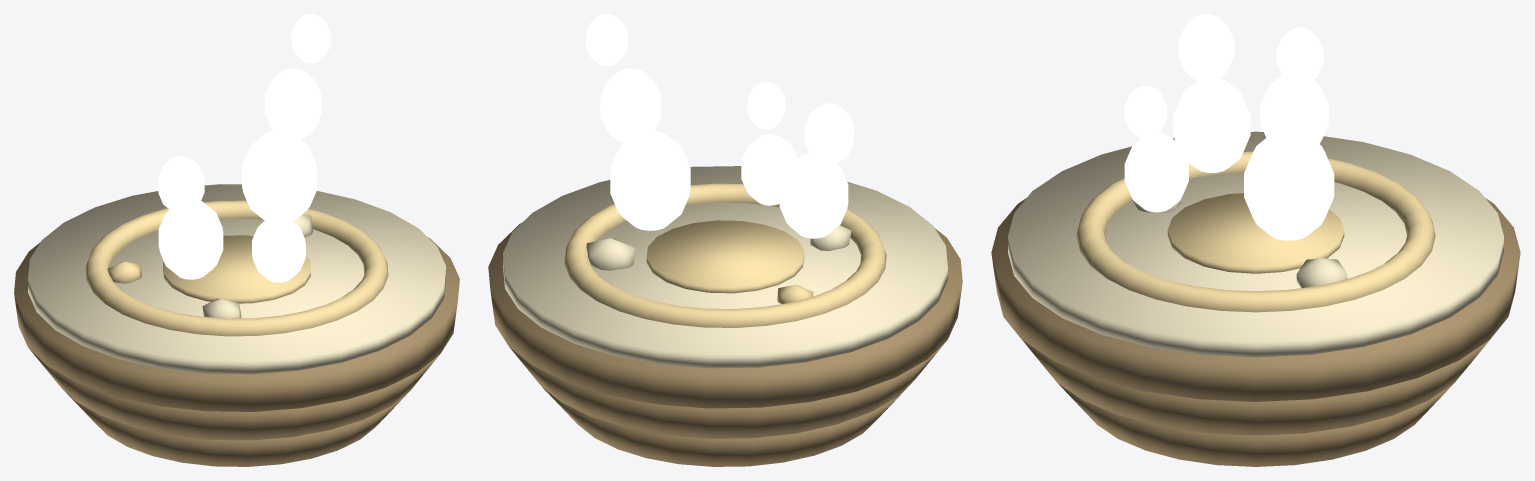
The model's file is food_cutaway.glb.
3 views of the same model, side by side, from view 1: azimuth 30°, elevation 25°; view 2: azimuth 150°, elevation 25°; view 3: azimuth 270°, elevation 25° (orthographic). The views are drawn at different scales.
Parts seen in each view (by area): view 1: CutFace, SkinTop, FleshRing, SkinMid, SkinBase, FleshCore, Steam0, Steam3, Steam1, Steam5, Steam4, Steam2 (+3 smaller); view 2: CutFace, SkinTop, FleshRing, SkinMid, FleshCore, SkinBase, Steam0, Steam3, Steam1, Steam5, Steam4, Steam2 (+4 smaller); view 3: CutFace, SkinTop, FleshRing, SkinMid, SkinBase, FleshCore, Steam0, Steam3, Steam1, Steam5, Steam4, Steam2 (+2 smaller).
Part boxes in pixels (box(x1,y1,x2,y2)): CutFace: box(28, 184, 445, 374); SkinTop: box(14, 237, 459, 411); FleshRing: box(85, 200, 388, 336); SkinMid: box(29, 348, 439, 440); SkinBase: box(62, 388, 409, 466); FleshCore: box(163, 235, 310, 303); Steam0: box(241, 131, 317, 221); Steam3: box(158, 201, 223, 279); Steam1: box(264, 68, 321, 139); Steam5: box(252, 215, 305, 282); Steam4: box(158, 155, 204, 213); Steam2: box(291, 14, 330, 63); CutFace: box(503, 166, 947, 368); SkinTop: box(488, 223, 962, 408); FleshRing: box(564, 183, 886, 327); SkinMid: box(509, 341, 946, 438); FleshCore: box(646, 220, 804, 293); SkinBase: box(542, 382, 912, 466); Steam0: box(610, 131, 690, 230); Steam3: box(779, 153, 848, 238); Steam1: box(600, 68, 661, 144); Steam5: box(741, 134, 797, 205); Steam4: box(804, 103, 854, 165); Steam2: box(586, 14, 627, 66); CutFace: box(1008, 131, 1503, 357); SkinTop: box(991, 198, 1520, 401); FleshRing: box(1076, 151, 1435, 312); SkinMid: box(1008, 323, 1503, 435); SkinBase: box(1058, 383, 1453, 466); FleshCore: box(1167, 193, 1344, 273); Steam0: box(1244, 138, 1334, 240); Steam3: box(1173, 78, 1250, 172); Steam1: box(1260, 75, 1328, 156); Steam5: box(1124, 133, 1188, 212); Steam4: box(1178, 14, 1234, 81); Steam2: box(1276, 27, 1323, 85).
Bounding box in the file's own units: 0.48 × 0.4175 × 0.48.
